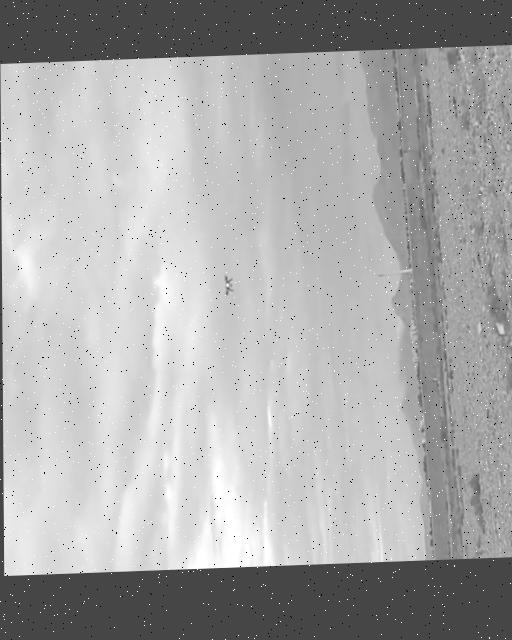drone: (217, 275, 234, 300)
